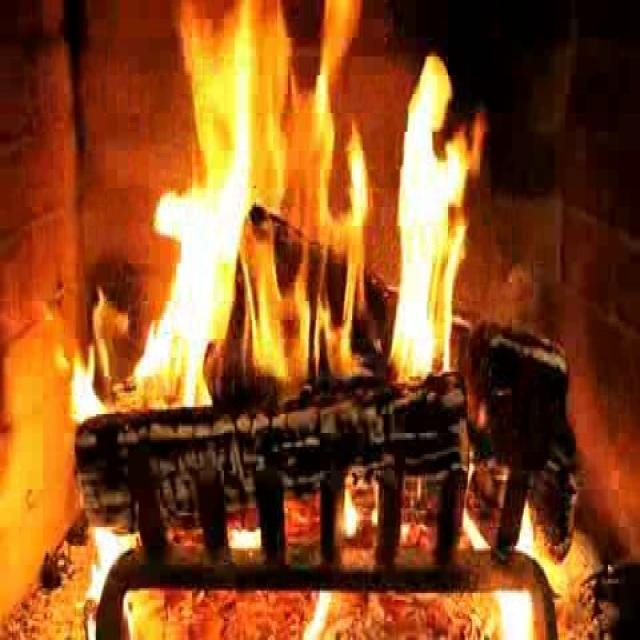fire: (139, 11, 470, 403)
